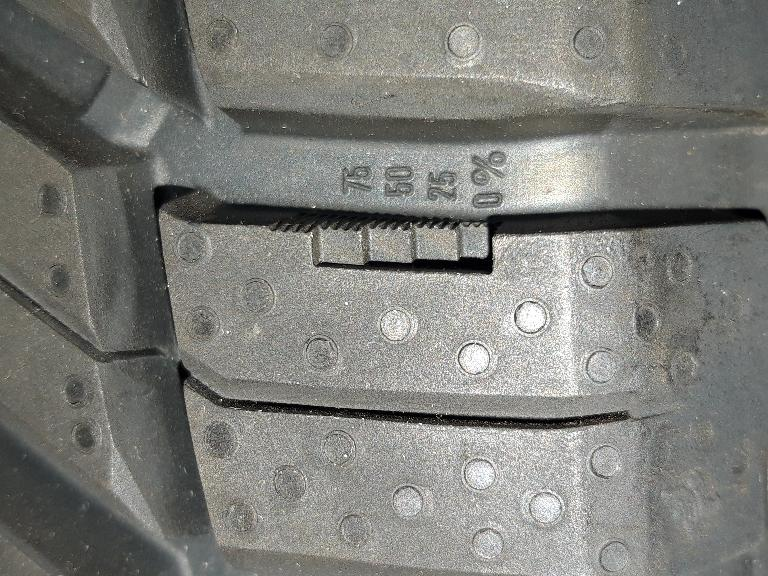temoin:100: (264, 204, 501, 282)
